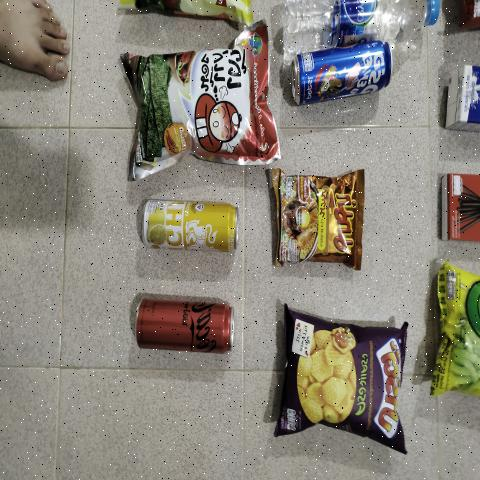coke_red: (135, 303, 234, 349)
crystal: (283, 0, 441, 50)
mama: (280, 174, 362, 255)
party_purple: (280, 331, 403, 430)
pepsi_blue: (283, 48, 390, 102)
singha_yellow: (138, 204, 240, 252)
taokaenoi: (126, 45, 277, 160)
